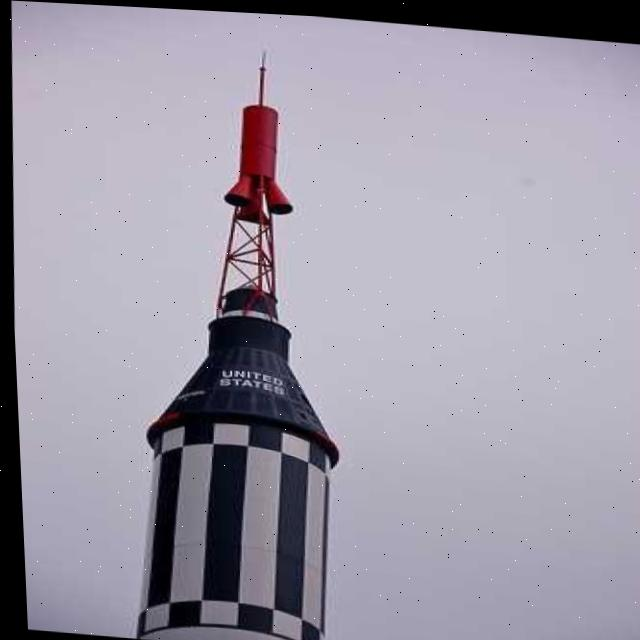missile: (101, 19, 403, 640)
